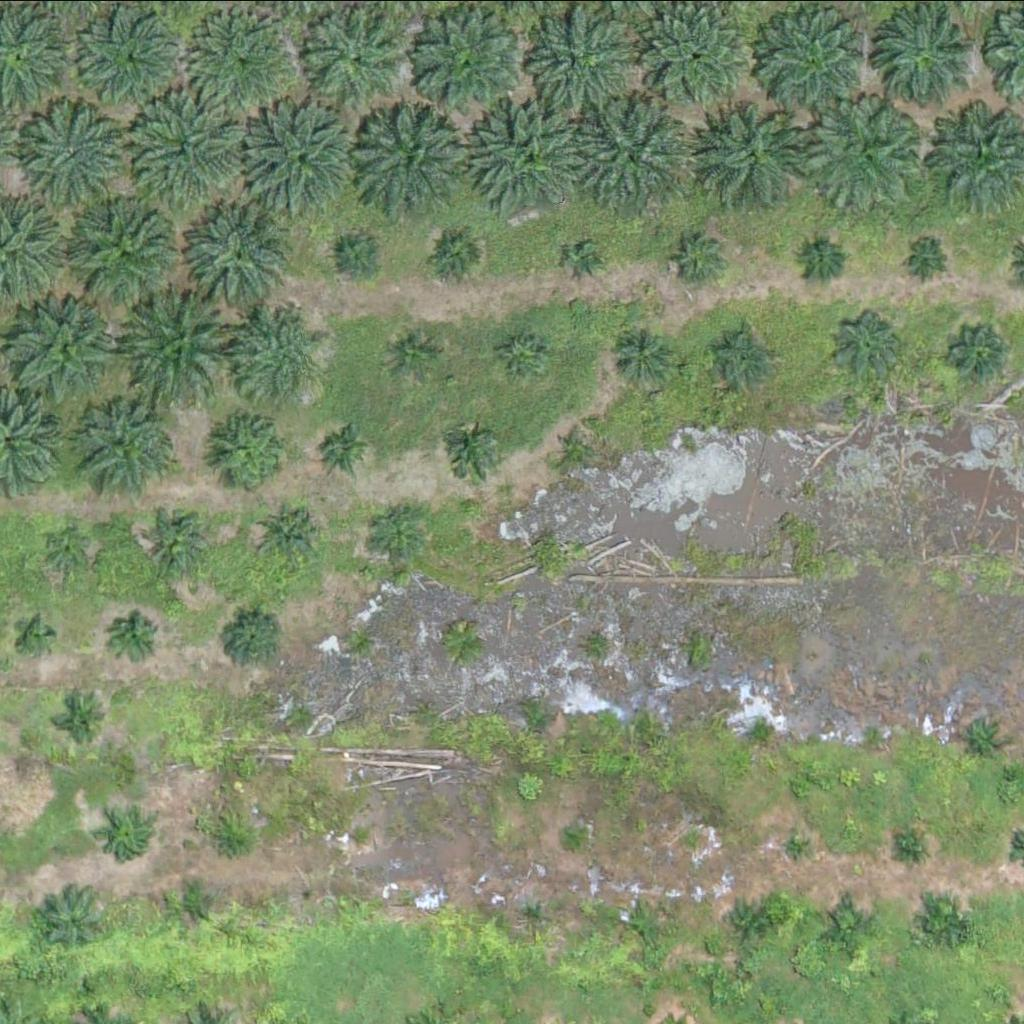Kelapa_Sawit: (128, 87, 242, 200), (814, 94, 928, 207), (184, 201, 297, 314), (473, 97, 586, 210), (575, 96, 688, 209), (690, 96, 803, 209), (184, 9, 297, 122), (759, 4, 872, 117), (72, 196, 186, 308), (128, 288, 242, 400), (12, 292, 126, 404), (250, 100, 363, 212), (362, 100, 475, 212), (411, 3, 524, 115), (89, 9, 190, 109), (29, 97, 130, 197), (528, 3, 629, 103), (85, 400, 185, 500), (208, 411, 296, 498), (235, 311, 323, 398), (827, 305, 902, 380), (260, 500, 323, 563), (43, 886, 106, 949), (219, 605, 282, 668), (954, 321, 1017, 384), (150, 507, 213, 569), (916, 893, 979, 955), (614, 322, 677, 384), (711, 323, 774, 385), (312, 413, 375, 475), (817, 894, 880, 956), (56, 696, 107, 746), (110, 612, 161, 662), (671, 232, 722, 282), (169, 878, 220, 928), (204, 816, 255, 866), (795, 236, 846, 286), (379, 506, 429, 556), (443, 430, 493, 480), (102, 811, 152, 861), (499, 328, 549, 378), (390, 327, 440, 377), (41, 525, 91, 575), (903, 232, 953, 282), (331, 230, 381, 280), (434, 229, 484, 279), (957, 710, 1007, 760), (16, 617, 54, 655), (557, 425, 595, 463), (566, 242, 604, 280), (779, 824, 817, 862), (731, 900, 769, 938), (622, 904, 660, 942), (516, 896, 554, 933), (895, 835, 921, 860), (556, 823, 581, 848), (347, 826, 372, 851)
